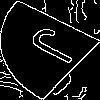J: (24, 25, 97, 72)
